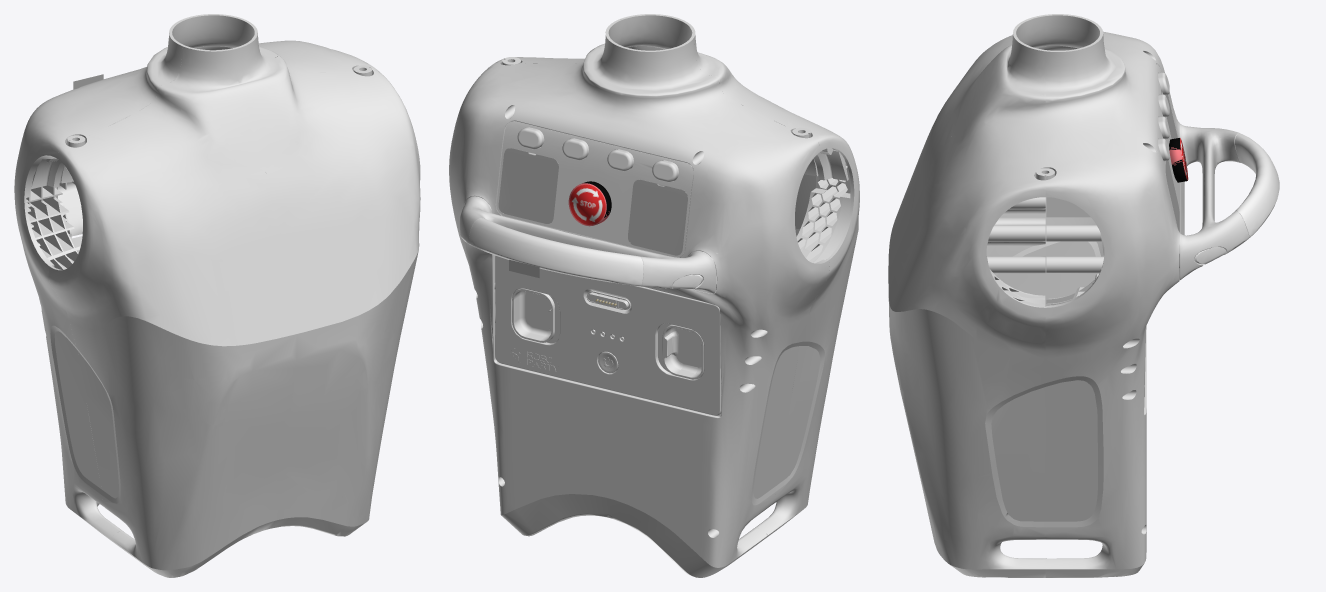
Rendered from rp1-torso-web.glb.
The picture shows the model from 3 angles, left to right: view 1: azimuth 30°, elevation 25°; view 2: azimuth 150°, elevation 25°; view 3: azimuth 270°, elevation 25°; orthographic projection.
Parts seen in each view (by area): view 1: Plane.002; view 2: Plane.002, Cylinder; view 3: Plane.002, Cylinder.
Boxes of the visible parts, box(x1,y1,x2,y2) form: Plane.002: box(14, 14, 420, 577); Plane.002: box(449, 14, 859, 577); Cylinder: box(568, 181, 611, 226); Plane.002: box(888, 14, 1279, 577); Cylinder: box(1169, 138, 1188, 182).
Bounding box in the file's own units: 0.2521 × 0.345 × 0.2657.
3 materials, 3 textured.
